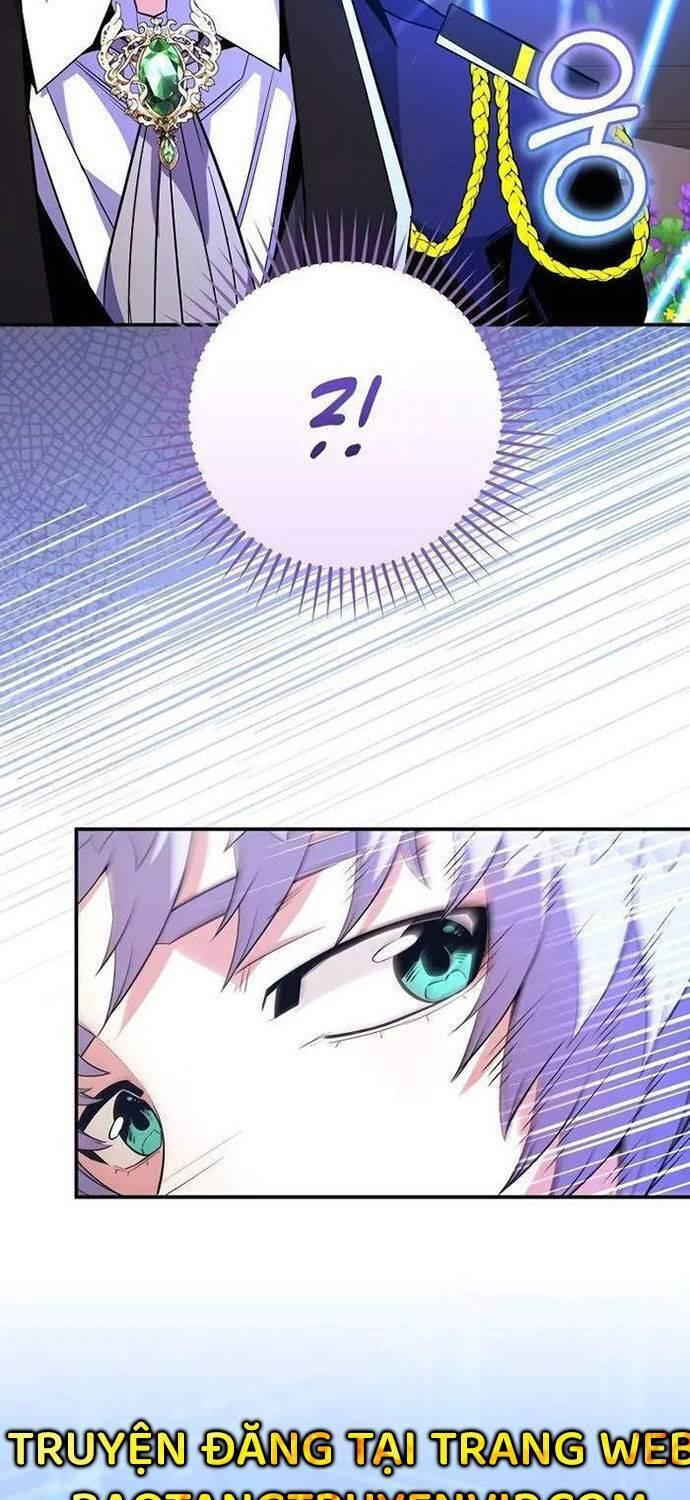quangcao: (0, 1418, 690, 1500)
